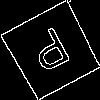P: (26, 25, 78, 82)
